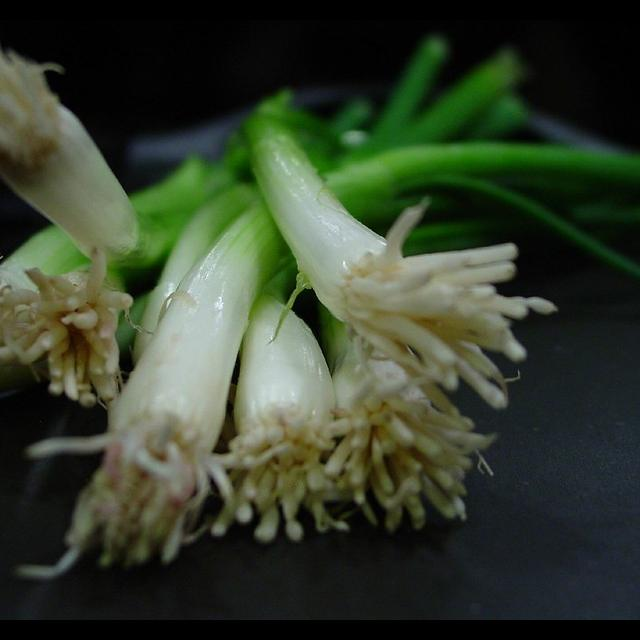green_onion: (0, 37, 640, 579)
